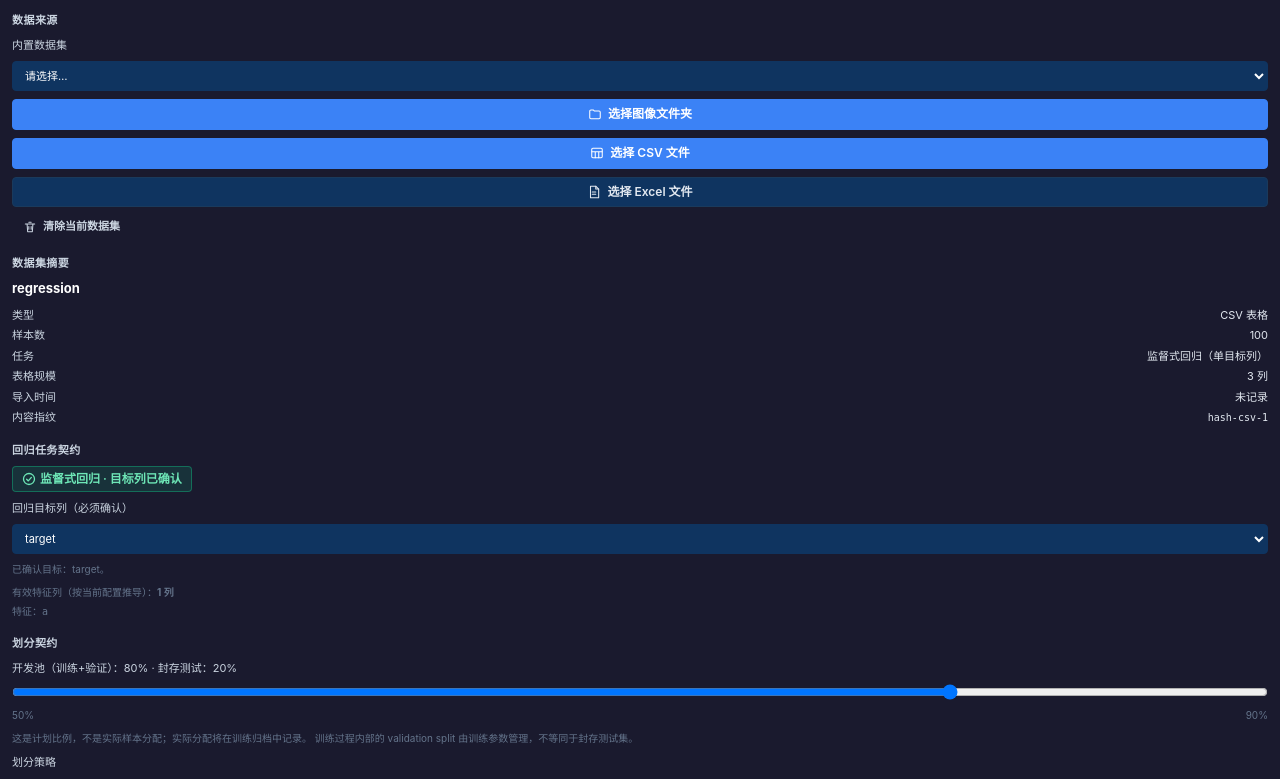
Test: 数据集工作台：安全清除 › 10. 点击清除后出现确认框
What coordinates should you click on to do the following:
click the button "清除当前数据集"
I would click on:
 (72, 227)
Its box is [12,215,131,239].
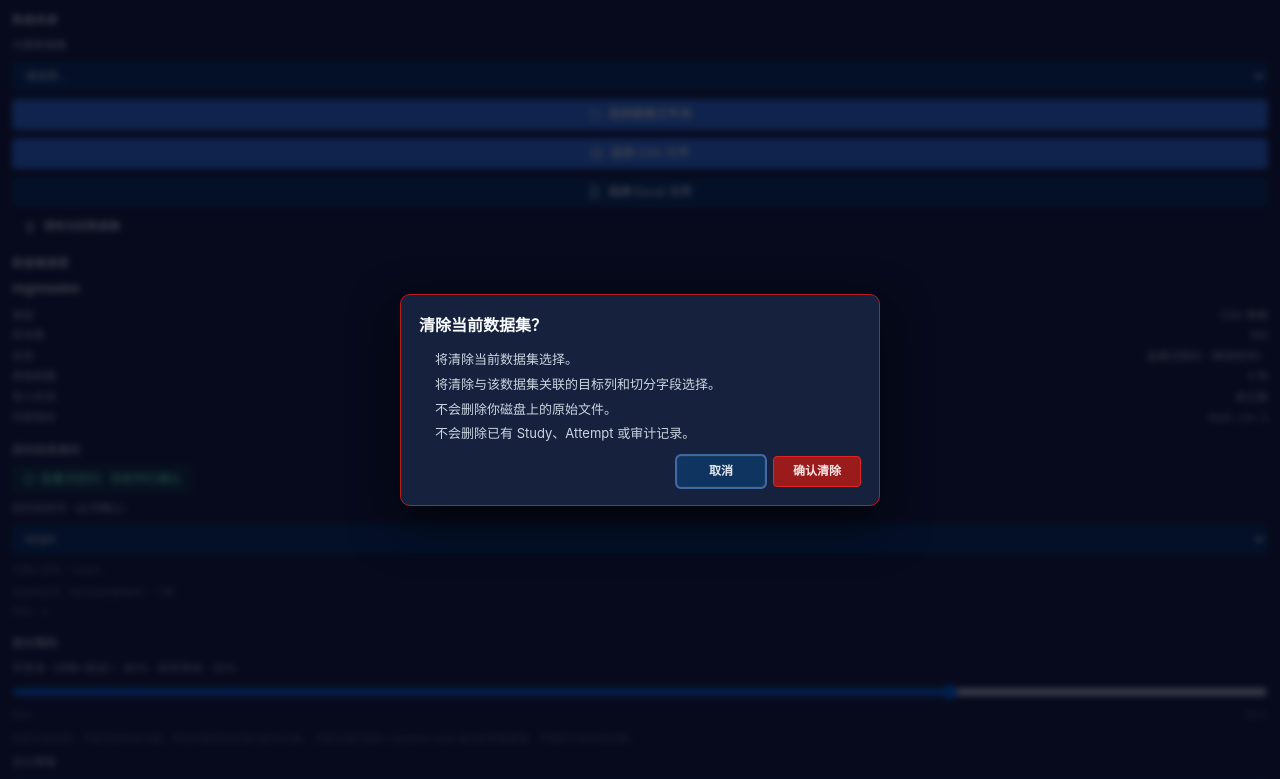
Result: the dialog is shown at [400,294,880,506]
